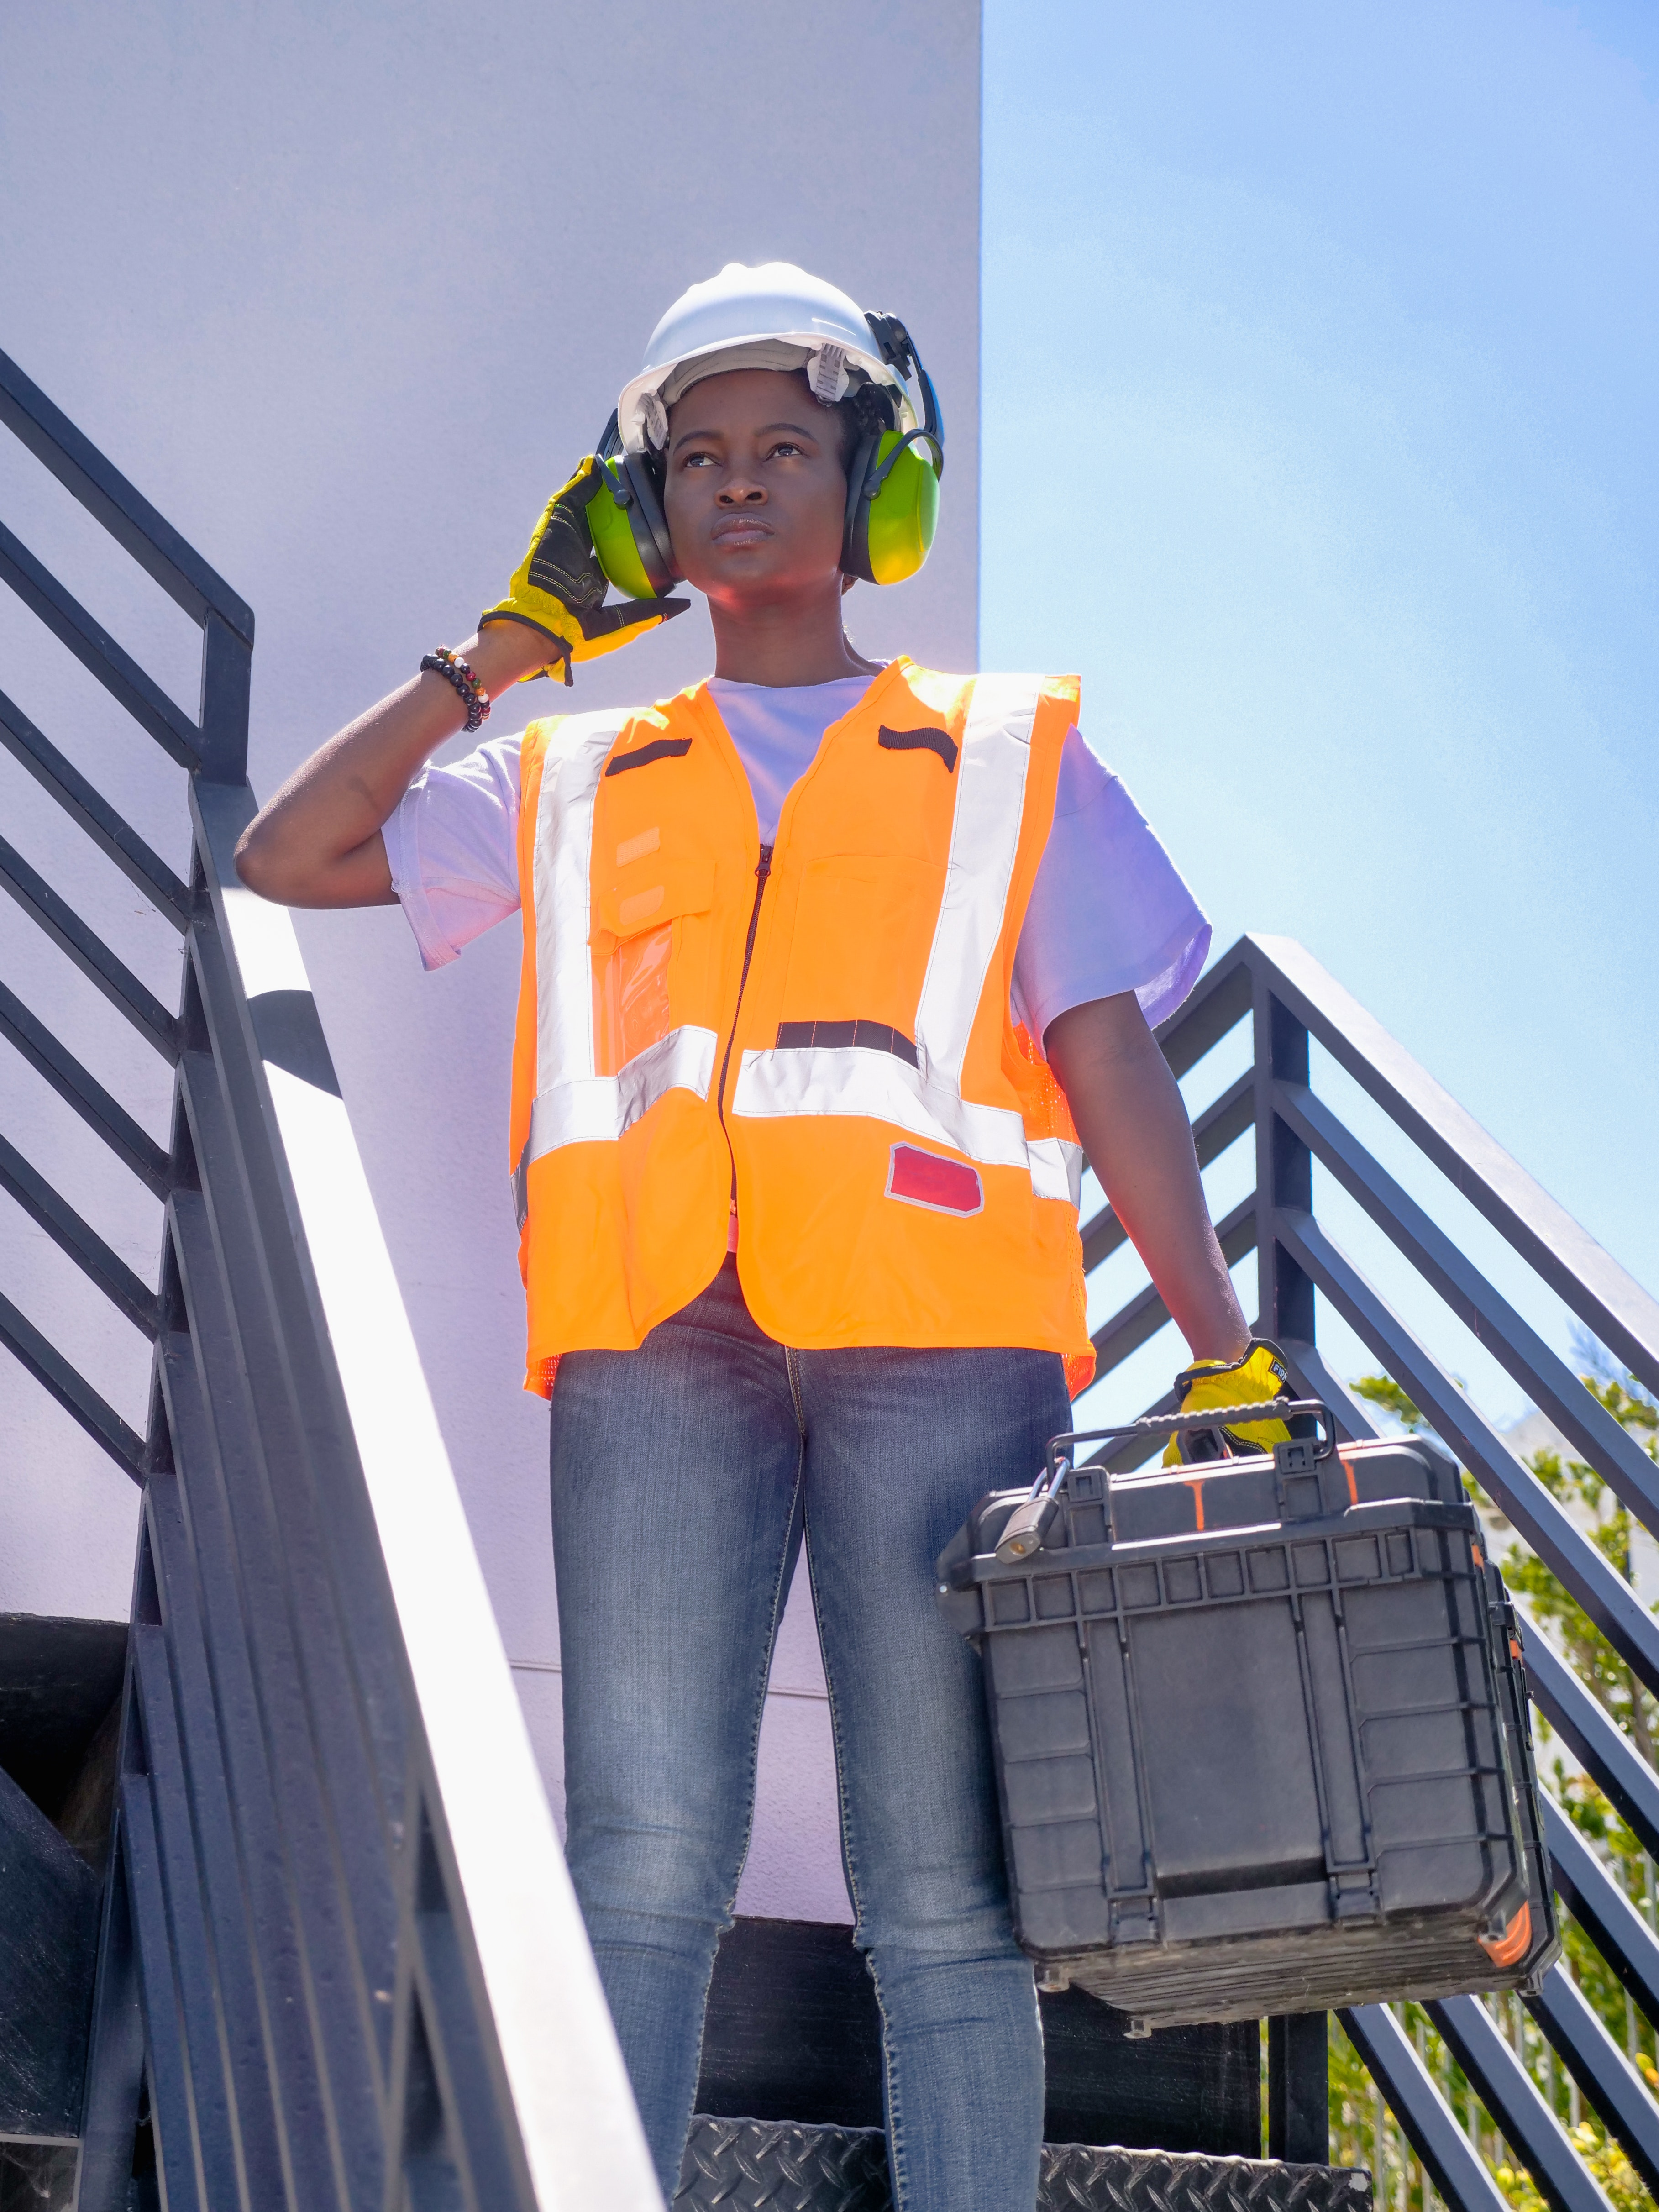Helmet: (603, 239, 958, 669)
Reflective vest: (509, 654, 1117, 1415)
